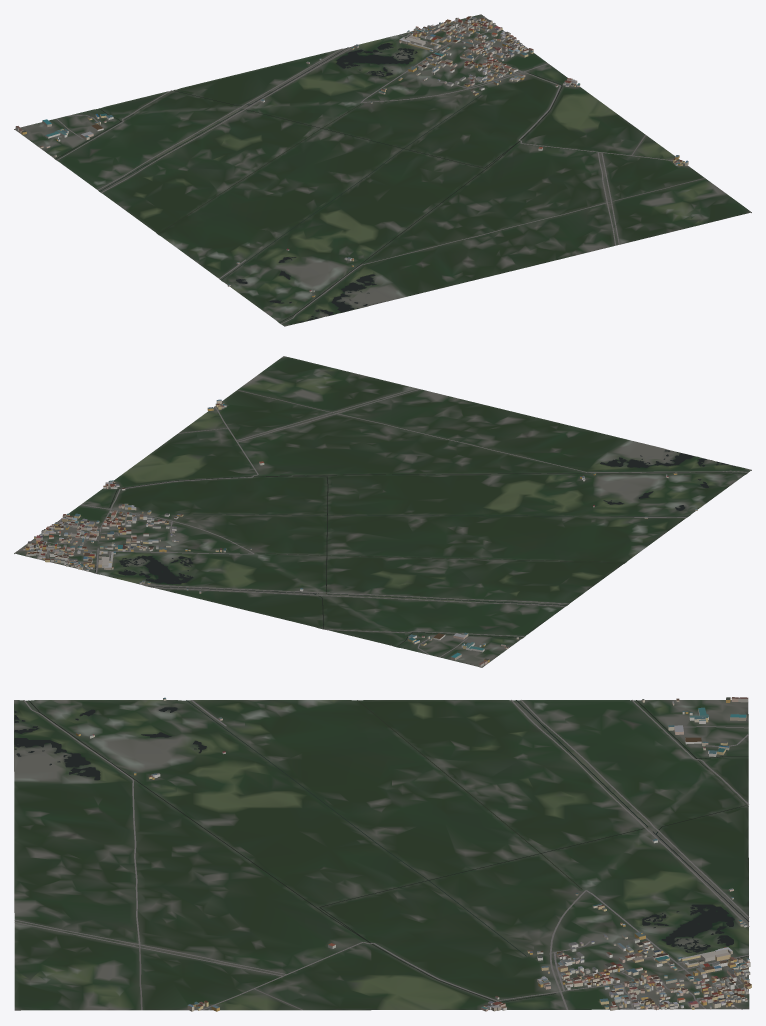
3 renders of one model, top to bottom at view 1: azimuth 30°, elevation 25°; view 2: azimuth 150°, elevation 25°; view 3: azimuth 270°, elevation 25°, orthographic. The views are drawn at different scales.
Visible parts, largest first — view 1: ground, buildings, water, roads; view 2: ground, buildings, water, roads; view 3: ground, buildings, water, roads.
Boxes of the visible parts, x1,y1,x2,y2 form: ground: (14,14,751,326); buildings: (15,16,688,297); water: (55,34,562,322); roads: (56,16,704,323); ground: (14,356,751,667); buildings: (23,399,697,667); water: (94,450,746,646); roads: (16,388,747,657); ground: (14,700,749,1010); buildings: (76,697,751,1011); water: (14,700,748,1002); roads: (14,700,749,1010).
Bounding box in the file's own units: 1410 × 16.08 × 1409.
